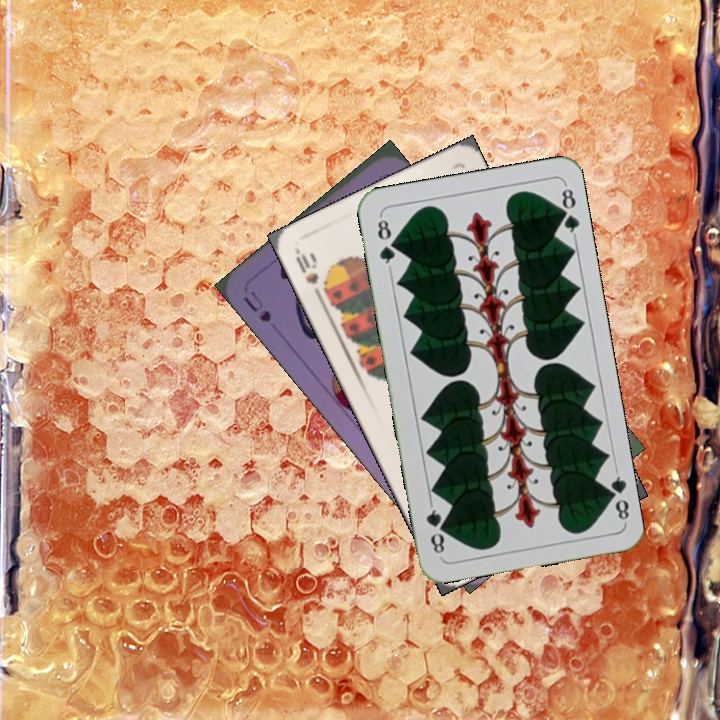G8: (600, 466, 632, 525), (373, 212, 399, 271)
S10: (291, 247, 325, 303)
SU: (238, 287, 274, 325)
